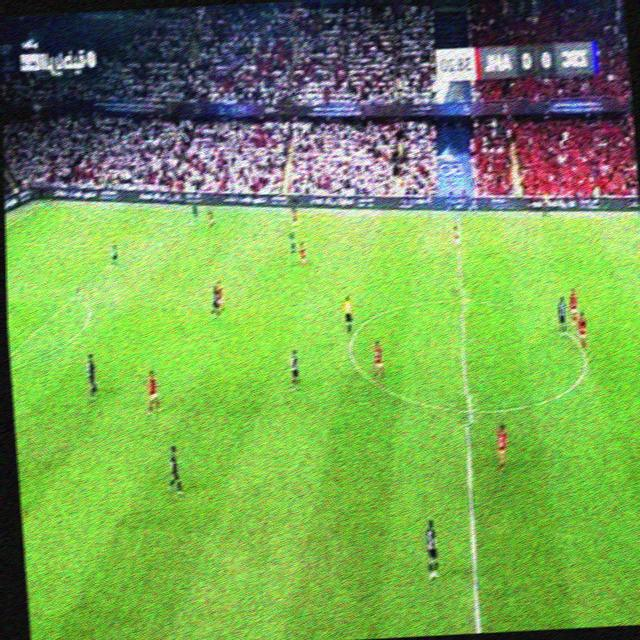bigarea_top_inner: (122, 237, 137, 252)
corner: (32, 199, 54, 210)
halfcircle_bottom: (456, 394, 480, 424)
halfcircle_top: (450, 288, 473, 312)
midline_top_intersection: (450, 206, 467, 223)
top_arc_area_intersection: (68, 286, 84, 302)
